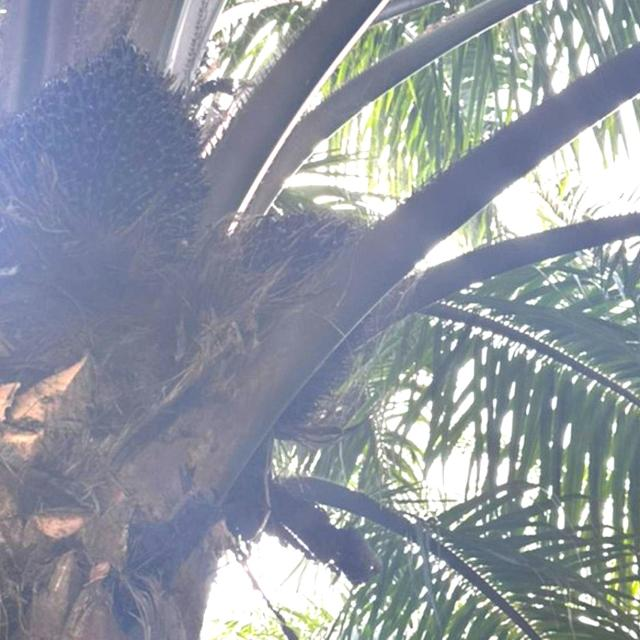ripe: (0, 18, 218, 267)
